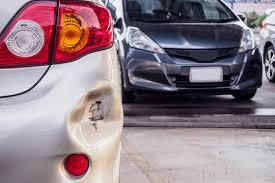rear-bumper-dent: (0, 60, 132, 182)
